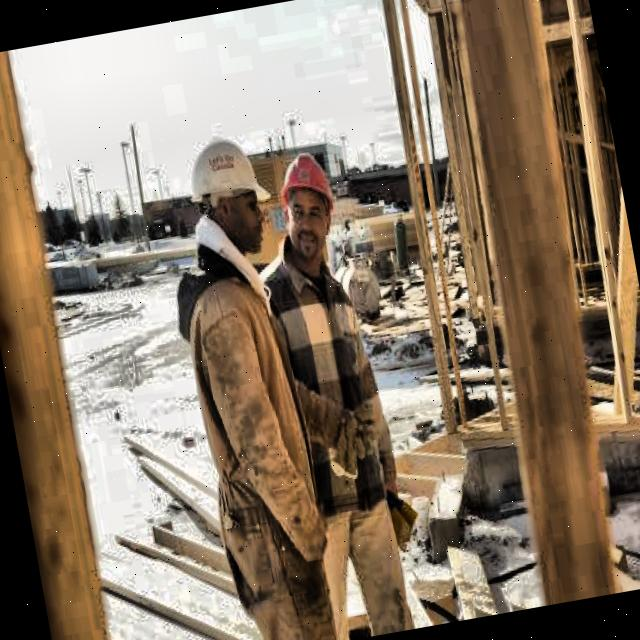helmet: (178, 122, 272, 248), (264, 142, 352, 271)
